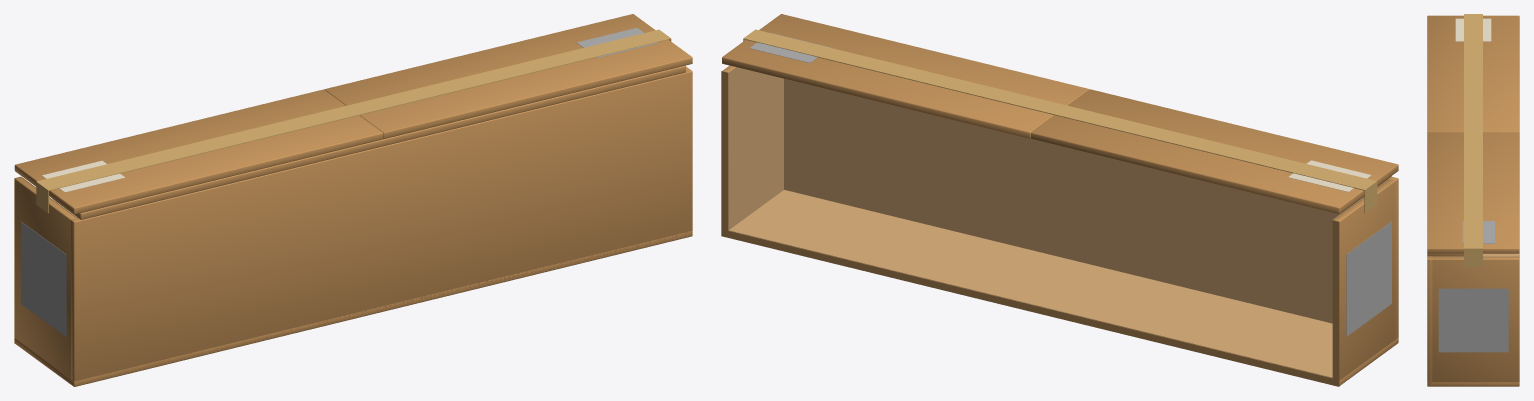
The picture shows the model from 3 angles, left to right: view 1: azimuth 30°, elevation 25°; view 2: azimuth 150°, elevation 25°; view 3: azimuth 270°, elevation 25°; orthographic projection. The views are drawn at different scales.
Visible parts, largest first — view 1: box_8x2, FlapR, FlapL, Tape, FlapB; view 2: box_8x2, FlapR, FlapL, Tape; view 3: box_8x2, FlapL, FlapR, Tape, FlapB.
Boxes of the visible parts, bbox=[...] form: box_8x2: bbox=[14, 66, 692, 386]; FlapR: bbox=[14, 89, 383, 214]; FlapL: bbox=[324, 14, 692, 138]; Tape: bbox=[36, 29, 671, 213]; FlapB: bbox=[53, 65, 685, 219]; box_8x2: bbox=[721, 65, 1398, 386]; FlapR: bbox=[1031, 89, 1398, 213]; FlapL: bbox=[722, 14, 1089, 138]; Tape: bbox=[743, 29, 1377, 212]; box_8x2: bbox=[1427, 253, 1519, 386]; FlapL: bbox=[1427, 132, 1519, 253]; FlapR: bbox=[1427, 15, 1519, 132]; Tape: bbox=[1464, 14, 1482, 266]; FlapB: bbox=[1427, 253, 1463, 256].
Bounding box in the file's own units: 2.06 × 0.5685 × 0.3428.
